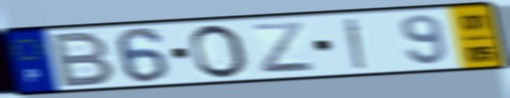6: (113, 26, 172, 85)
9: (399, 13, 449, 67)
B: (49, 29, 119, 89)
I: (341, 16, 368, 72)
O: (187, 23, 251, 81)
Z: (249, 20, 318, 75)
